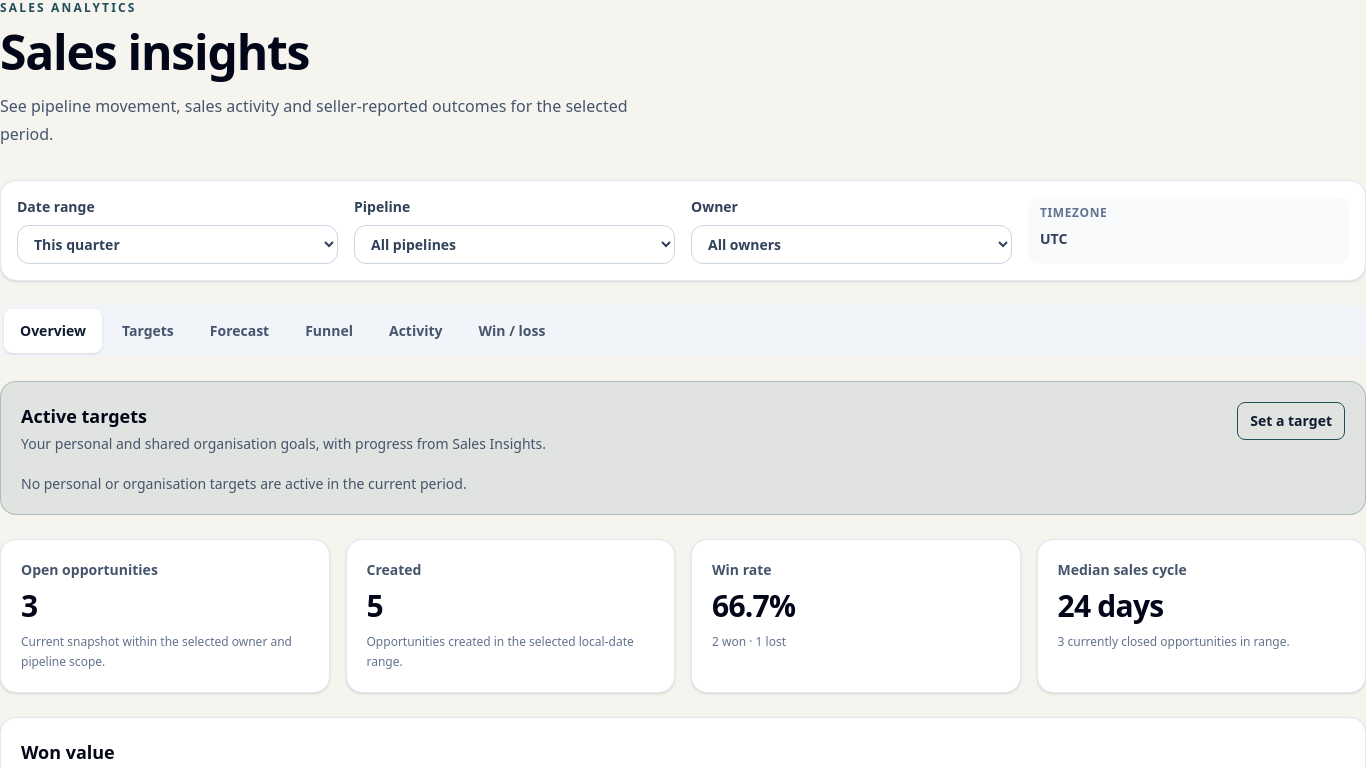
Test case: sales insights › loads filters and presents the deterministic insight views
expect the text "Open opportunities" is shown: met, box [21,560,158,579]
expect the heading "Active targets" is shown: met, box [21,404,147,428]
Click the button "Funnel".
click(329, 331)  # box [289,309,369,353]
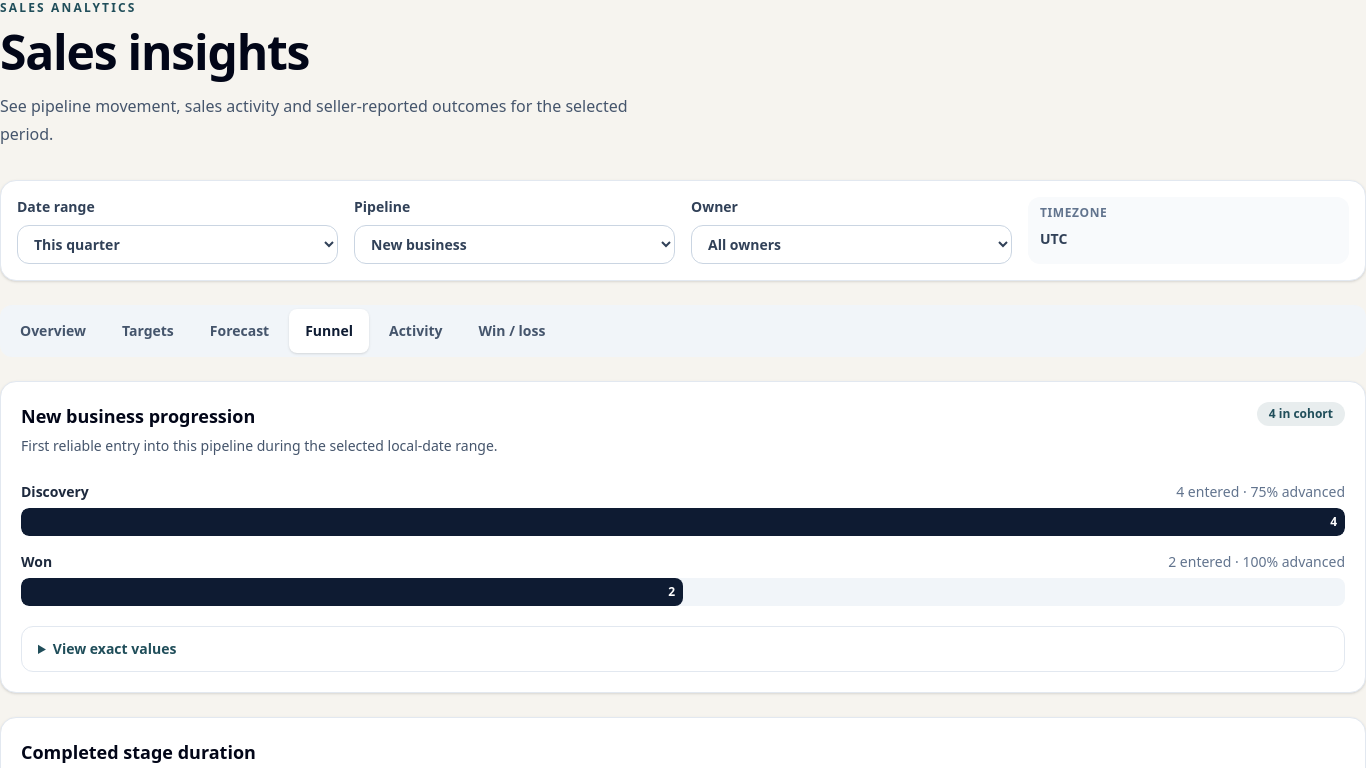
expect the option "All pipelines" is not shown: met
expect the heading "New business progression" is shown: met, box [21,404,255,428]
expect the dropdown labelled "Pipeline" shows "New business": met, box [354,225,675,264]
Click the heading "View exact values".
click(115, 648)  # box [53,639,176,658]
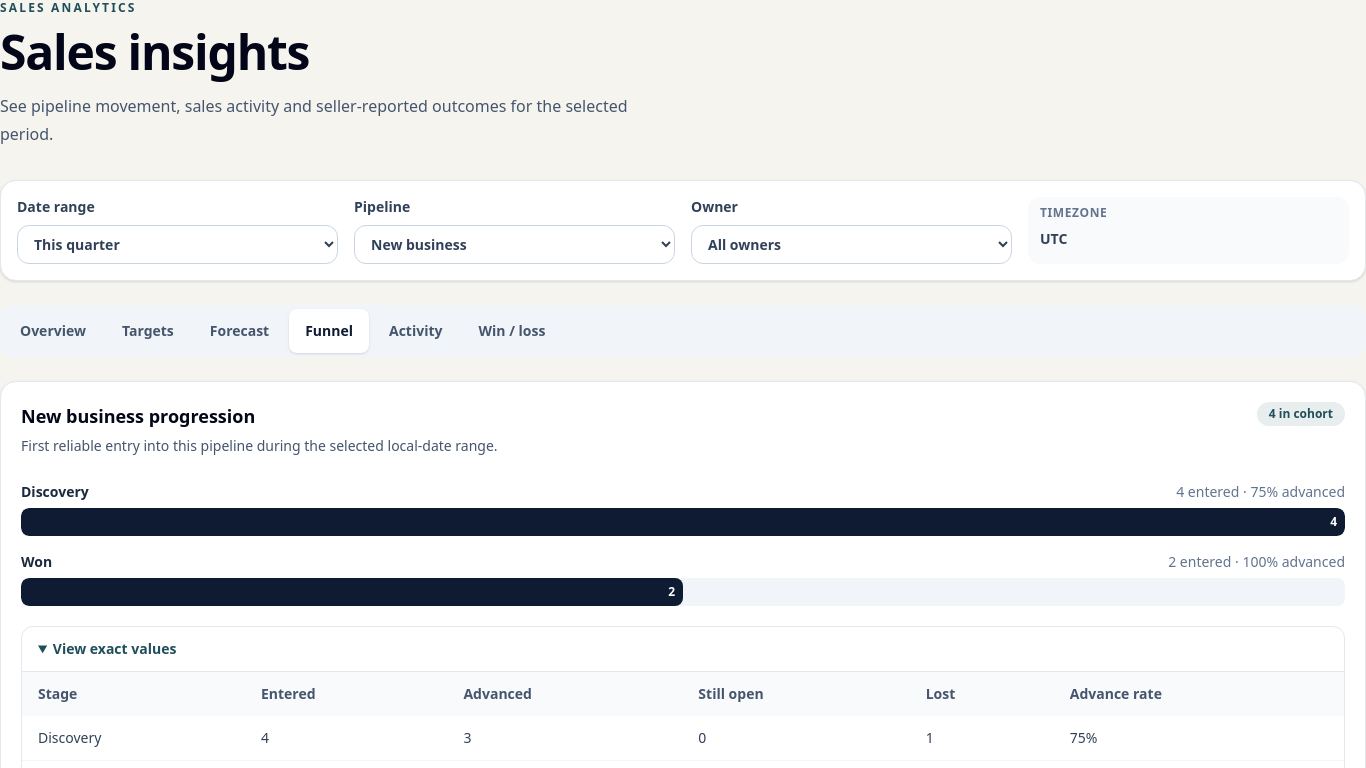
expect the text "75%" is shown: met, box [1054,716,1344,760]
Click the button "Activity".
click(416, 331)  # box [373,309,458,353]
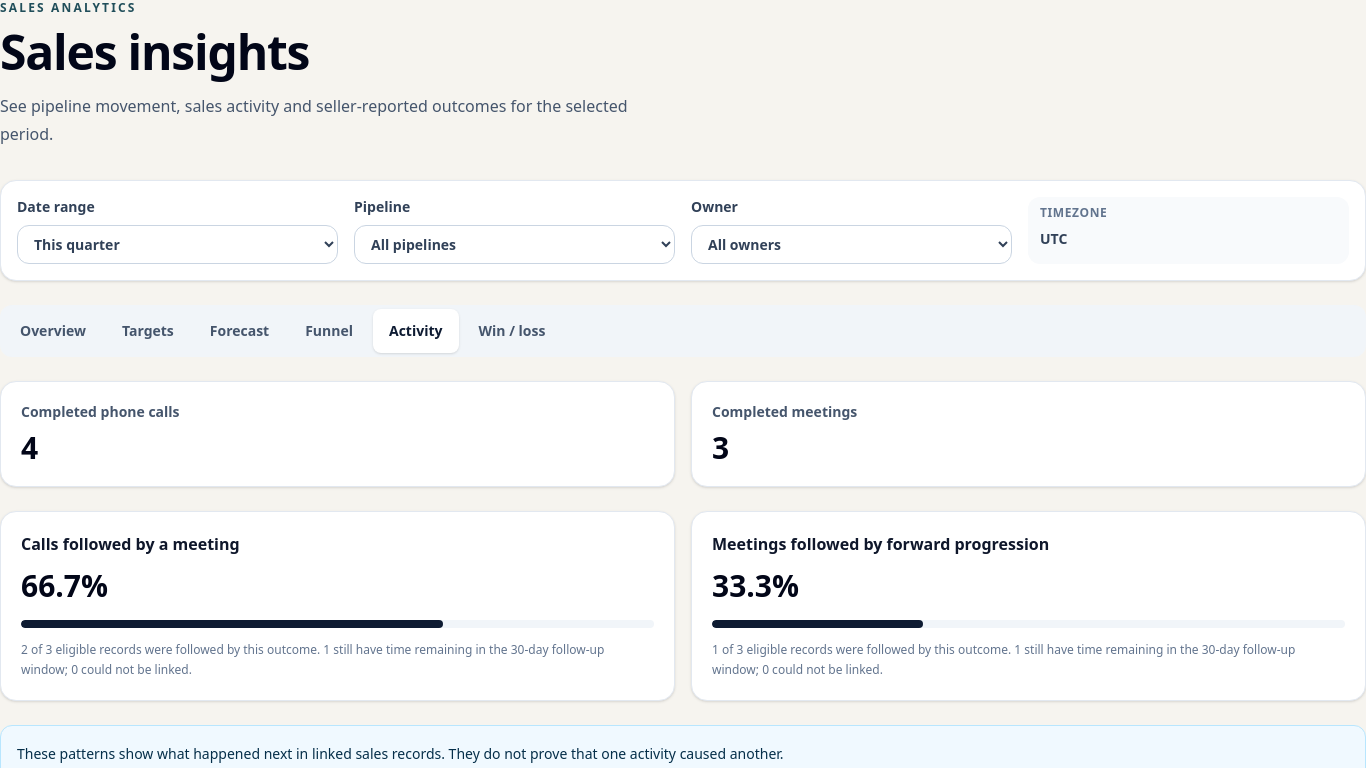
expect the heading "Calls followed by a meeting" is shown: met, box [21,533,240,555]
expect the text "do not prove that one activity caused another" is shown: met, box [17,744,784,763]
Click the button "Win / loss".
click(512, 331)  # box [462,309,561,353]
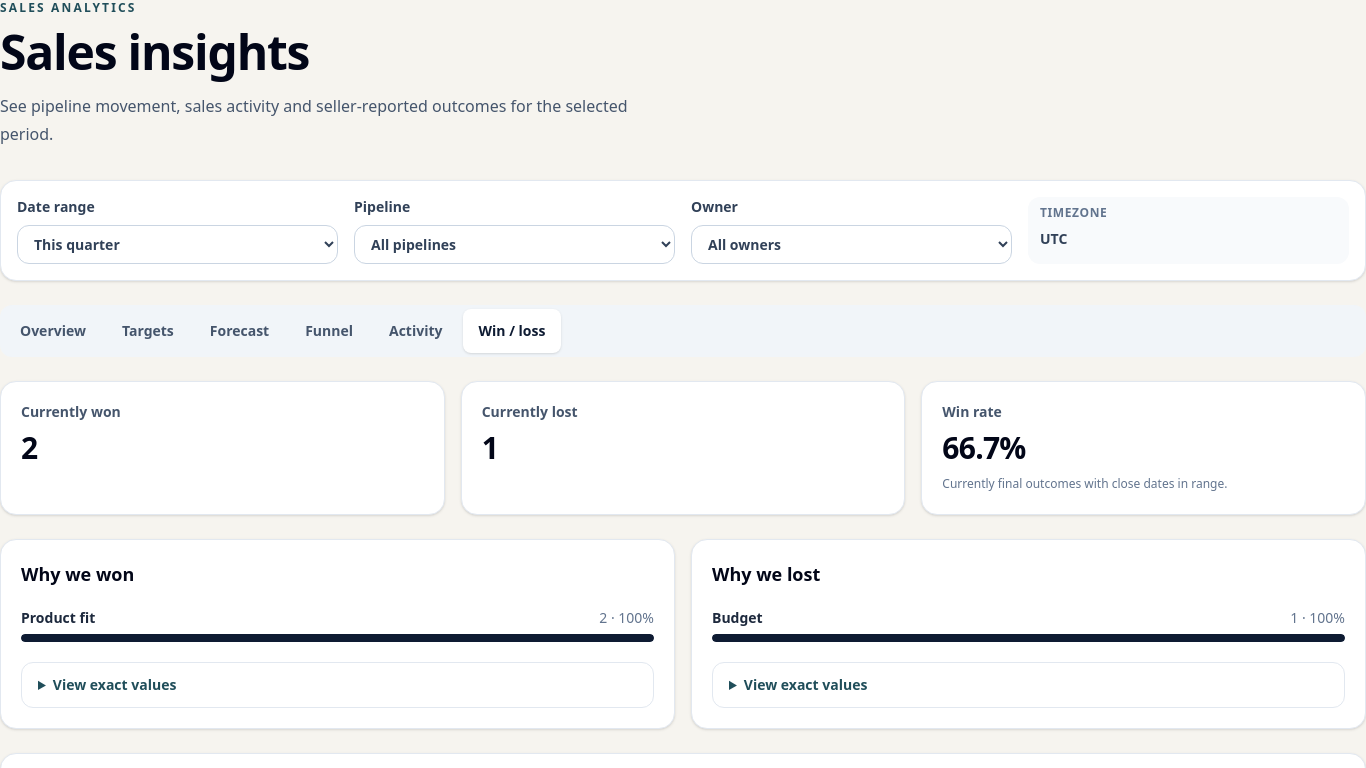
expect the heading "Why we won" is shown: met, box [21,562,134,586]
expect the text "Product fit" is shown: met, box [21,608,95,628]
Click the button "Targets".
click(148, 331)  # box [106,309,190,353]
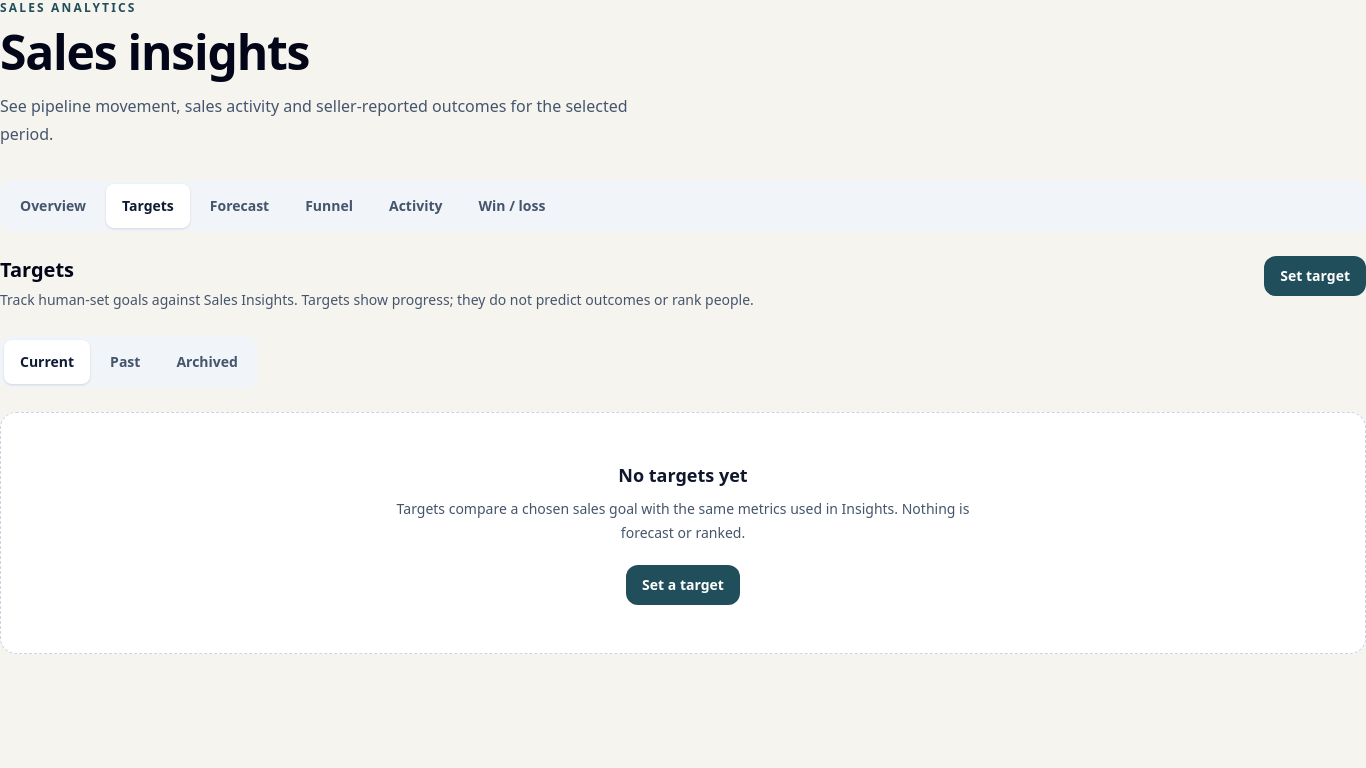
expect the heading "Targets" is shown: met, box [0,256,74,283]
